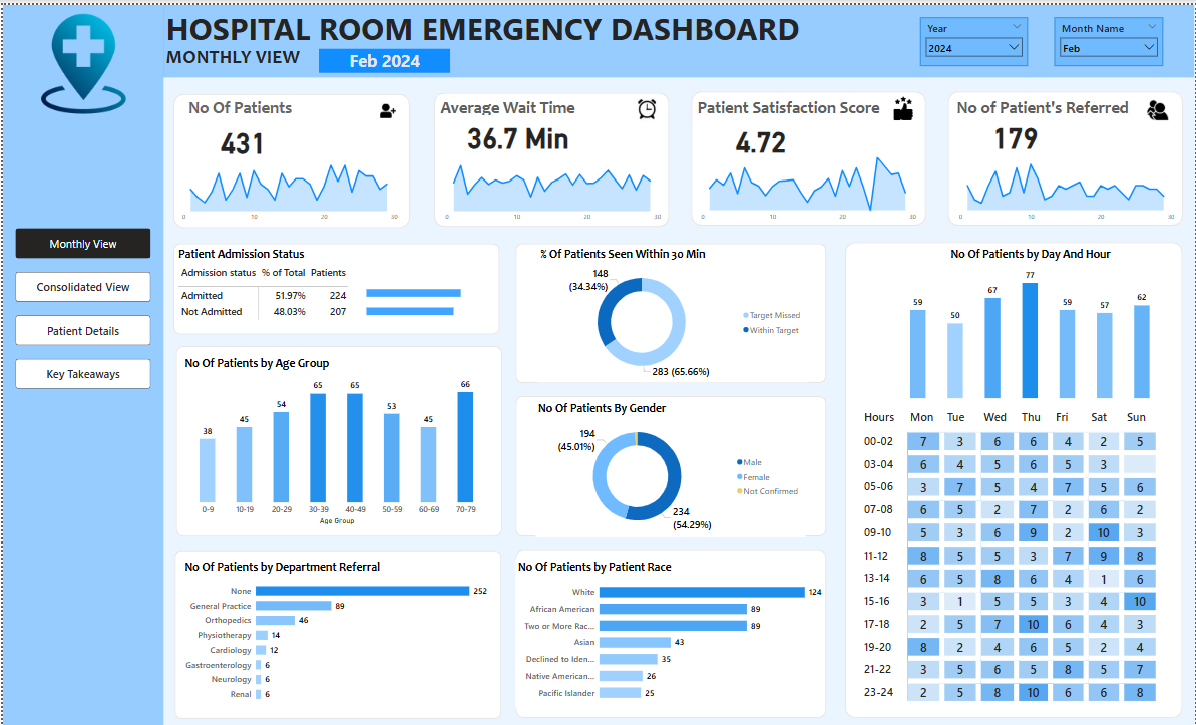

The dashboard page shown, as its layout file describes it:
{"tool":"powerbi","page":{"name":"Monthly View","canvas":[2300,1400],"ordinal":0},"visuals":[{"type":"shape","box":[0,0,310.2,1400.5],"z":0},{"type":"shape","box":[310.2,0,1989.8,140],"z":1000},{"type":"textbox","box":[309.2,0,1249.7,89.4],"z":2000},{"type":"textbox","box":[310.3,71.8,297.4,69.2],"z":3000},{"type":"slicer","fields":{"Values":["Date Table.Year"]},"box":[1770.7,23.3,207.4,93.3],"z":4000},{"type":"slicer","fields":{"Values":["Date Table.Month Name"]},"box":[2029.9,23.3,210,93.3],"z":5000},{"type":"shape","box":[330,171.6,456.7,258.7],"z":6000},{"type":"card","fields":{"Values":["Hospital ER_Data.No Of Patients"]},"box":[345.8,213.8,235,95],"z":7000},{"type":"textbox","box":[353.8,174.2,256.1,60.7],"z":8000},{"type":"areaChart","fields":{"Category":["Date Table.Date.Variation.Date Hierarchy.Day"],"Y":["Hospital ER_Data.No Of Patients"]},"box":[333.3,279.5,435.9,146.2],"z":9000},{"type":"card","fields":{"Values":["Min(Date Table.Month & Year)"]},"box":[610.3,84.6,253.8,46.2],"z":10000},{"type":"shape","box":[831.4,169.2,453.8,259],"z":11000},{"type":"shape","box":[1327.2,166.7,453.8,259],"z":12000},{"type":"shape","box":[1823.1,166.7,453.8,259],"z":13000},{"type":"textbox","box":[839.5,174.2,311.5,55.4],"z":14000},{"type":"card","fields":{"Values":["Hospital ER_Data.Avg Wait Time"]},"box":[876.5,213.8,237.6,76.6],"z":15000},{"type":"areaChart","fields":{"Category":["Date Table.Date.Variation.Date Hierarchy.Day"],"Y":["Avg(Hospital ER_Data.Patient Waittime)"]},"box":[841,279.5,435.9,146.2],"z":16000},{"type":"textbox","box":[1335.1,173.7,386.3,57],"z":17000},{"type":"shape","box":[329.2,458.9,630,176.3],"z":18000},{"type":"card","fields":{"Values":["Hospital ER_Data.Satisfaction Score"]},"box":[1354.4,224.4,216.5,66],"z":19000},{"type":"pivotTable","title":"Patient  Admission Status","fields":{"Rows":["Hospital ER_Data.Admission status"],"Values":["Divide(Hospital ER_Data.No Of Patients, ScopedEval(Hospital ER_Data.No Of Patients, []))","Hospital ER_Data.No Of Patients"]},"box":[334.4,466.6,344.8,158.1],"z":20000},{"type":"areaChart","fields":{"Category":["Date Table.Date.Variation.Date Hierarchy.Day"],"Y":["Hospital ER_Data.Satisfaction Score"]},"box":[1335.1,280,435.5,145.2],"z":21000},{"type":"areaChart","fields":{"Category":["Date Table.Date.Variation.Date Hierarchy.Day"],"Y":["Hospital ER_Data.No of Patients Referred"]},"box":[1832.9,280,435.5,145.2],"z":22000},{"type":"card","fields":{"Values":["Hospital ER_Data.No of Patients Referred"]},"box":[1835.9,212.8,235.9,76.9],"z":23000},{"type":"textbox","box":[1835.9,174.4,405.1,56.4],"z":24000},{"type":"barChart","fields":{"Category":["Hospital ER_Data.Admission status"],"Y":["Hospital ER_Data.No Of Patients"]},"box":[697.4,518.5,254.1,106.3],"z":25000},{"type":"shape","box":[334.4,658.5,630,368],"z":26000},{"type":"clusteredColumnChart","fields":{"Category":["Hospital ER_Data.Age Group"],"Y":["Hospital ER_Data.No Of Patients"]},"box":[346.2,676.9,597.4,330.8],"z":27000},{"type":"shape","box":[330.8,1051.3,630.8,325.6],"z":28000},{"type":"barChart","fields":{"Category":["Hospital ER_Data.Department Referral"],"Y":["Hospital ER_Data.No Of Patients"]},"box":[346.2,1069.2,597.4,287.2],"z":29000},{"type":"shape","box":[989.7,459,600,270],"z":30000},{"type":"donutChart","title":"% Of Patients Seen Within 30 Min","fields":{"Category":["Hospital ER_Data.Waittime Status"],"Y":["Hospital ER_Data.No Of Patients"]},"box":[1033.3,466.7,520.5,261.5],"z":31000},{"type":"shape","box":[989.5,755.3,600,271.1],"z":32000},{"type":"donutChart","title":"No Of Patients By Gender","fields":{"Y":["Hospital ER_Data.No Of Patients"],"Category":["Hospital ER_Data.Patient Gender"]},"box":[1028.9,763.2,521.1,263.2],"z":33000},{"type":"shape","box":[989.5,1050,600,326.3],"z":34000},{"type":"shape","box":[1624.8,458.1,651.3,918.5],"z":35000},{"type":"barChart","fields":{"Y":["Hospital ER_Data.No Of Patients"],"Category":["Hospital ER_Data.Patient Race"]},"box":[989.5,1068.4,597.4,286.8],"z":36000},{"type":"pivotTable","fields":{"Rows":["Hospital ER_Data.Waittime Interval"],"Columns":["Date Table.Day Name"],"Values":["Hospital ER_Data.No Of Patients"]},"box":[1651.4,775.1,604,585.9],"z":37000},{"type":"columnChart","title":"No Of Patients by Day And Hour","fields":{"Category":["Date Table.Day Name"],"Y":["Hospital ER_Data.No Of Patients"]},"box":[1747.3,466.6,474.4,298.1],"z":38000},{"type":"image","box":[1206.5,176.9,71.3,55.4],"z":39000},{"type":"image","box":[2201.8,171.6,55.4,63.4],"z":40000},{"type":"image","box":[1705.5,169,66,60.7],"z":41000},{"type":"image","box":[718.1,187.4,50.2,37],"z":42000},{"type":"image","box":[47.5,13.2,213.8,203.3],"z":43000},{"type":"pageNavigator","box":[23.3,430.3,261.8,313.7],"z":44000}]}

Visuals, with their boxes in screenshot pixels (x1, y1, x2, y2), scaled from the page's 2300x1400 canvas onto the 1196x725 screenshot:
shape: <region>0, 0, 161, 724</region>
shape: <region>161, 0, 1195, 72</region>
textbox: <region>161, 0, 811, 46</region>
textbox: <region>161, 37, 316, 73</region>
slicer - Date Table.Year: <region>921, 12, 1029, 60</region>
slicer - Date Table.Month Name: <region>1056, 12, 1165, 60</region>
shape: <region>172, 89, 409, 223</region>
card - Hospital ER_Data.No Of Patients: <region>180, 111, 302, 160</region>
textbox: <region>184, 90, 317, 122</region>
areaChart - Date Table.Date.Variation.Date Hierarchy.Day x Hospital ER_Data.No Of Patients: <region>173, 145, 400, 220</region>
card - Min(Date Table.Month & Year): <region>317, 44, 449, 68</region>
shape: <region>432, 88, 668, 222</region>
shape: <region>690, 86, 926, 220</region>
shape: <region>948, 86, 1184, 220</region>
textbox: <region>437, 90, 599, 119</region>
card - Hospital ER_Data.Avg Wait Time: <region>456, 111, 579, 150</region>
areaChart - Date Table.Date.Variation.Date Hierarchy.Day x Avg(Hospital ER_Data.Patient Waittime): <region>437, 145, 664, 220</region>
textbox: <region>694, 90, 895, 119</region>
shape: <region>171, 238, 499, 329</region>
card - Hospital ER_Data.Satisfaction Score: <region>704, 116, 817, 150</region>
"Patient  Admission Status" pivotTable: <region>174, 242, 353, 324</region>
areaChart - Date Table.Date.Variation.Date Hierarchy.Day x Hospital ER_Data.Satisfaction Score: <region>694, 145, 921, 220</region>
areaChart - Date Table.Date.Variation.Date Hierarchy.Day x Hospital ER_Data.No of Patients Referred: <region>953, 145, 1180, 220</region>
card - Hospital ER_Data.No of Patients Referred: <region>955, 110, 1077, 150</region>
textbox: <region>955, 90, 1165, 120</region>
barChart - Hospital ER_Data.Admission status x Hospital ER_Data.No Of Patients: <region>363, 269, 495, 324</region>
shape: <region>174, 341, 501, 532</region>
clusteredColumnChart - Hospital ER_Data.Age Group x Hospital ER_Data.No Of Patients: <region>180, 351, 491, 522</region>
shape: <region>172, 544, 500, 713</region>
barChart - Hospital ER_Data.Department Referral x Hospital ER_Data.No Of Patients: <region>180, 554, 491, 702</region>
shape: <region>515, 238, 827, 378</region>
"% Of Patients Seen Within 30 Min" donutChart: <region>537, 242, 808, 377</region>
shape: <region>515, 391, 827, 532</region>
"No Of Patients By Gender" donutChart: <region>535, 395, 806, 532</region>
shape: <region>515, 544, 827, 713</region>
shape: <region>845, 237, 1184, 713</region>
barChart - Hospital ER_Data.No Of Patients x Hospital ER_Data.Patient Race: <region>515, 553, 825, 702</region>
pivotTable - Hospital ER_Data.Waittime Interval x Date Table.Day Name: <region>859, 401, 1173, 705</region>
"No Of Patients by Day And Hour" columnChart: <region>909, 242, 1155, 396</region>
image: <region>627, 92, 664, 120</region>
image: <region>1145, 89, 1174, 122</region>
image: <region>887, 88, 921, 119</region>
image: <region>373, 97, 400, 116</region>
image: <region>25, 7, 136, 112</region>
pageNavigator: <region>12, 223, 148, 385</region>
